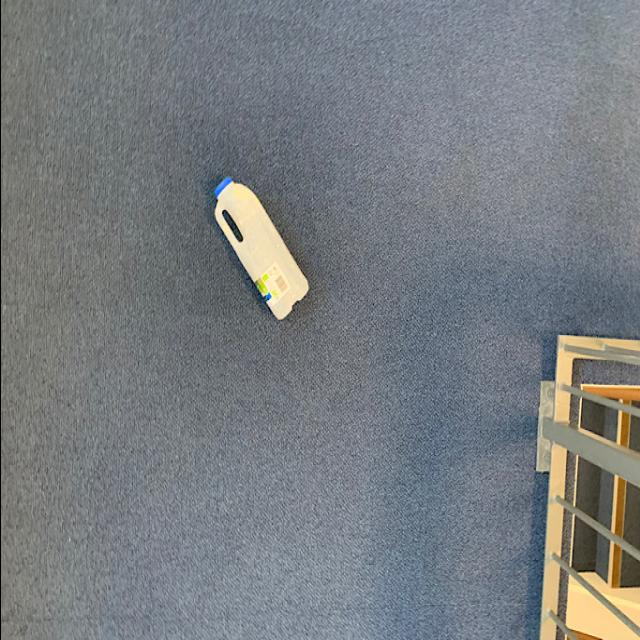litter: (210, 178, 313, 326)
